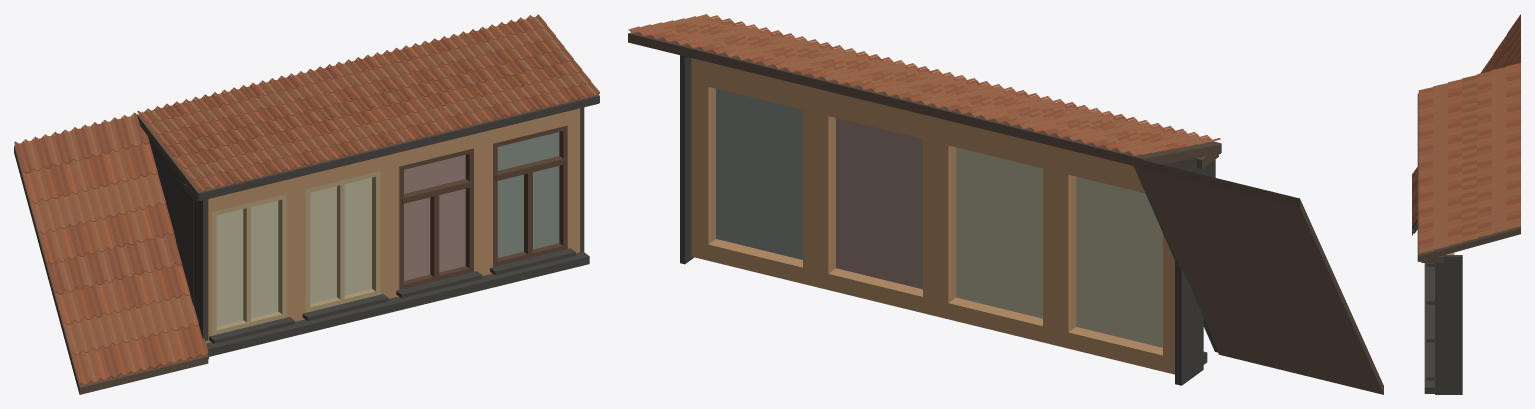
File: hongkou-yaxiya-huangdu-109-four-window-dormer-raw.glb
3 renders of one model, left to right at view 1: azimuth 30°, elevation 25°; view 2: azimuth 150°, elevation 25°; view 3: azimuth 270°, elevation 25°, orthographic. The views are drawn at different scales.
Visible parts, largest first — view 1: 亚细亚里黄渡路109号四窗老虎窗与瓦坡; view 2: 亚细亚里黄渡路109号四窗老虎窗与瓦坡; view 3: 亚细亚里黄渡路109号四窗老虎窗与瓦坡.
Part boxes in pixels (<box>): 亚细亚里黄渡路109号四窗老虎窗与瓦坡: <box>14,14,599,394</box>; 亚细亚里黄渡路109号四窗老虎窗与瓦坡: <box>628,14,1383,394</box>; 亚细亚里黄渡路109号四窗老虎窗与瓦坡: <box>1412,14,1520,394</box>.
Size of the model in its own units: 5.82 by 2.2 by 1.26.
